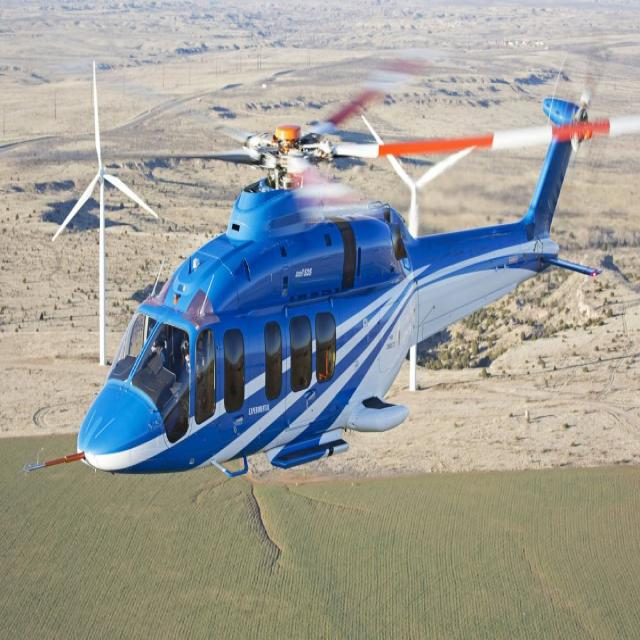helicopter: (60, 68, 620, 498)
